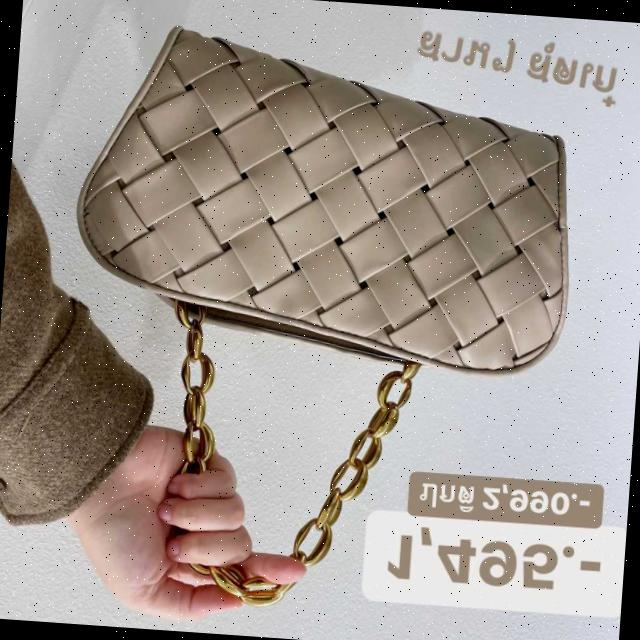Handbag: (59, 6, 602, 405)
